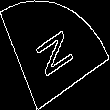N_SW: (31, 26, 79, 84)
